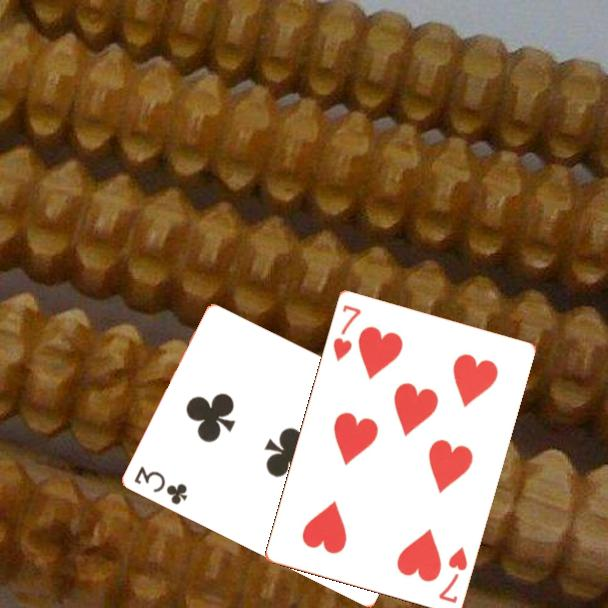c03: (131, 462, 191, 507)
h07: (329, 301, 364, 364), (435, 543, 470, 606)
